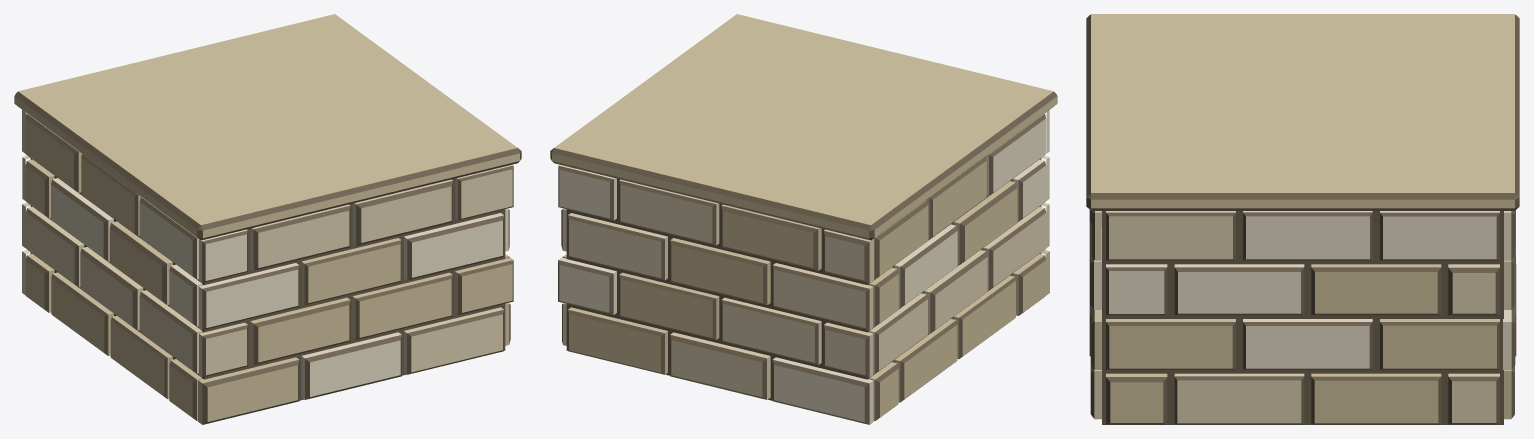
File: block_bone_body.glb
3 views of the same model, side by side, from view 1: azimuth 30°, elevation 25°; view 2: azimuth 150°, elevation 25°; view 3: azimuth 270°, elevation 25° (orthographic). The views are drawn at different scales.
Visible parts, largest first — view 1: BoneBody; view 2: BoneBody; view 3: BoneBody.
Part boxes in pixels (x1,y1,x2,y2): BoneBody: (14,14,521,424); BoneBody: (550,14,1057,424); BoneBody: (1086,14,1519,424).
Size of the model in its own units: 1.33 by 0.8 by 1.33.
